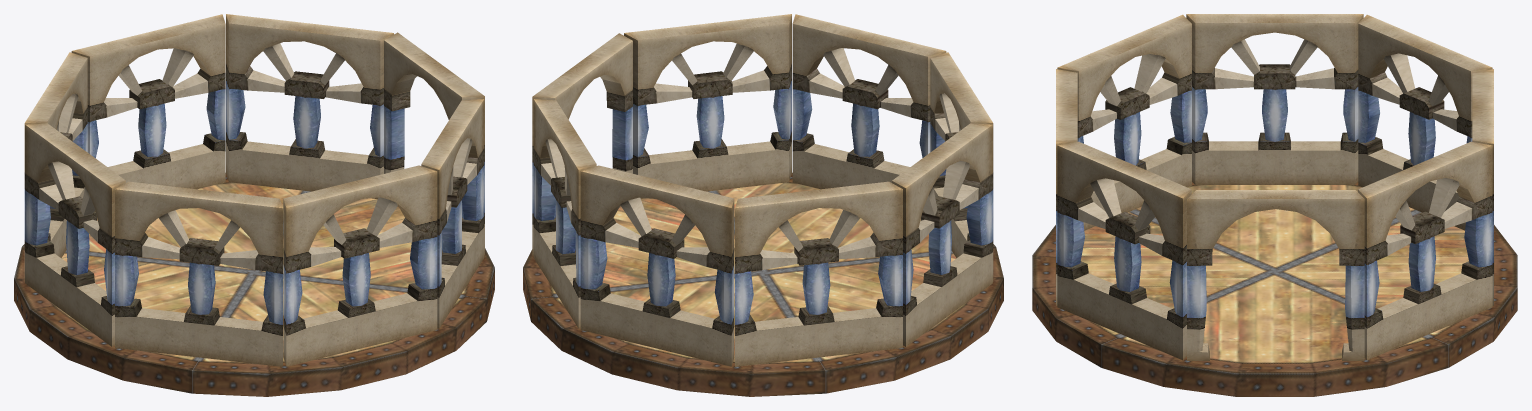
The model's file is P_Modul_03.FBX.
3 renders of one model, left to right at view 1: azimuth 30°, elevation 25°; view 2: azimuth 150°, elevation 25°; view 3: azimuth 270°, elevation 25°, orthographic. The views are drawn at different scales.
Visible parts, largest first — view 1: P_Modul_03_FloorN, P_Modul_03_Wall_125, P_Modul_03_Gate, P_Modul_03_Wall_151, P_Modul_03_Wall_6, P_Modul_03_Wall_099, P_Modul_03_Wall_047, P_Modul_03_Wall_110, P_Modul_03_Wall_21, P_Modul_03_Wall_136, P_Modul_03_Wall_032, P_Modul_03_Wall_084 (+70 smaller); view 2: P_Modul_03_FloorN, P_Modul_03_Wall_073, P_Modul_03_Gate, P_Modul_03_Wall_047, P_Modul_03_Wall_177, P_Modul_03_Wall_099, P_Modul_03_Wall_151, P_Modul_03_Wall_058, P_Modul_03_Wall_162, P_Modul_03_Wall_032, P_Modul_03_Wall_136, P_Modul_03_Wall_084 (+69 smaller); view 3: P_Modul_03_FloorN, P_Modul_03_Gate, P_Modul_03_Wall_099, P_Modul_03_Wall_177, P_Modul_03_Wall_6, P_Modul_03_Wall_084, P_Modul_03_Wall_162, P_Modul_03_Wall_21, P_Modul_03_Wall_058, P_Modul_03_Wall_110, P_Modul_03_Wall_125, P_Modul_03_Wall_073 (+56 smaller).
Boxes of the visible parts, <box> form: P_Modul_03_FloorN: <box>14,173,494,396</box>; P_Modul_03_Wall_125: <box>115,308,282,366</box>; P_Modul_03_Gate: <box>384,32,484,254</box>; P_Modul_03_Wall_151: <box>286,293,436,366</box>; P_Modul_03_Wall_6: <box>229,141,377,198</box>; P_Modul_03_Wall_099: <box>25,253,111,346</box>; P_Modul_03_Wall_047: <box>108,144,225,189</box>; P_Modul_03_Wall_110: <box>115,181,282,208</box>; P_Modul_03_Wall_21: <box>226,14,393,46</box>; P_Modul_03_Wall_136: <box>283,165,436,207</box>; P_Modul_03_Wall_032: <box>72,14,225,56</box>; P_Modul_03_Wall_084: <box>25,123,125,187</box>; P_Modul_03_FloorN: <box>523,172,1003,396</box>; P_Modul_03_Wall_073: <box>735,308,902,366</box>; P_Modul_03_Gate: <box>532,33,632,255</box>; P_Modul_03_Wall_047: <box>581,293,731,366</box>; P_Modul_03_Wall_177: <box>640,141,788,198</box>; P_Modul_03_Wall_099: <box>906,253,992,346</box>; P_Modul_03_Wall_151: <box>792,144,909,189</box>; P_Modul_03_Wall_058: <box>735,181,902,213</box>; P_Modul_03_Wall_162: <box>624,14,791,41</box>; P_Modul_03_Wall_032: <box>581,165,734,207</box>; P_Modul_03_Wall_136: <box>792,14,945,56</box>; P_Modul_03_Wall_084: <box>892,123,992,187</box>; P_Modul_03_FloorN: <box>1032,182,1517,396</box>; P_Modul_03_Gate: <box>1187,190,1364,360</box>; P_Modul_03_Wall_099: <box>1195,141,1354,184</box>; P_Modul_03_Wall_177: <box>1057,273,1182,359</box>; P_Modul_03_Wall_6: <box>1367,273,1492,359</box>; P_Modul_03_Wall_084: <box>1186,14,1363,35</box>; P_Modul_03_Wall_162: <box>1057,141,1191,198</box>; P_Modul_03_Wall_21: <box>1358,141,1492,198</box>; P_Modul_03_Wall_058: <box>1358,14,1491,71</box>; P_Modul_03_Wall_110: <box>1058,14,1191,71</box>; P_Modul_03_Wall_125: <box>1083,149,1191,230</box>; P_Modul_03_Wall_073: <box>1358,149,1465,230</box>.
Bounding box in the file's own units: 19.76 × 8.48 × 19.76.
Materials: 2 (2 with a texture image).
